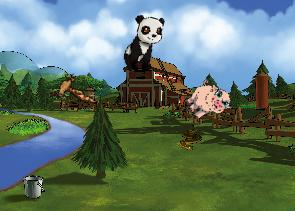eagle: (46, 69, 97, 111)
panda: (120, 11, 167, 77)
pig: (179, 74, 235, 129)
